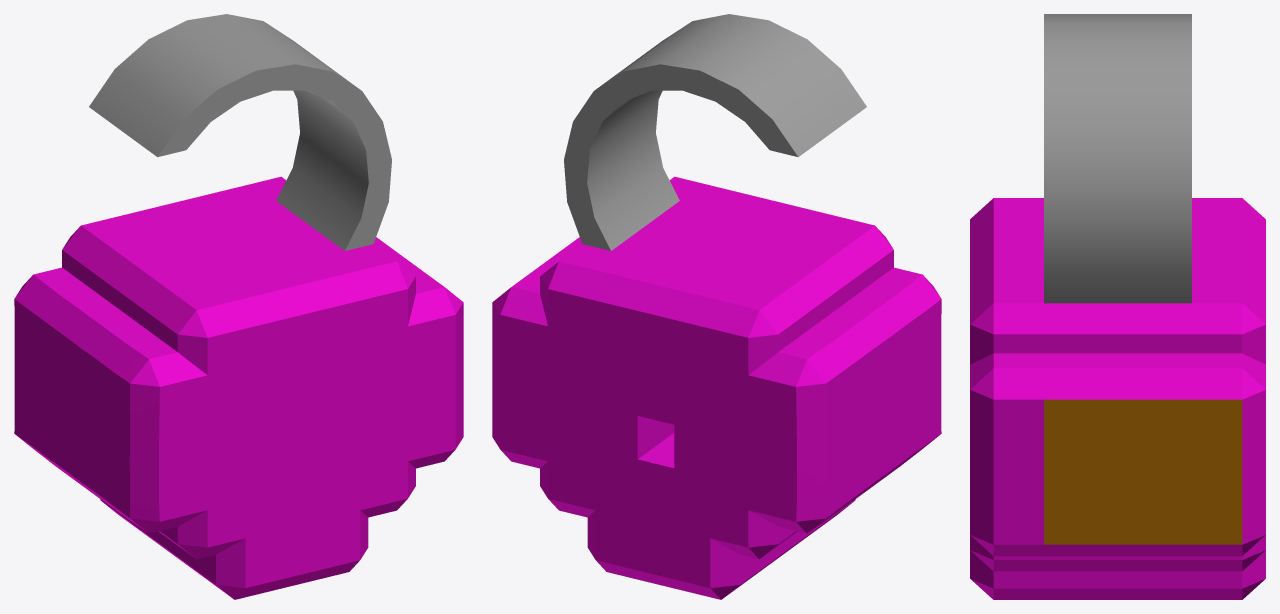
The model's file is Lock_Open_Pink.fbx.
The picture shows the model from 3 angles, left to right: view 1: azimuth 30°, elevation 25°; view 2: azimuth 150°, elevation 25°; view 3: azimuth 270°, elevation 25°; orthographic projection. The views are drawn at different scales.
Visible parts, largest first — view 1: Lock_Open_Pink; view 2: Lock_Open_Pink; view 3: Lock_Open_Pink.
Part boxes in pixels (x1=…): Lock_Open_Pink: x1=14, y1=14, x2=463, y2=599; Lock_Open_Pink: x1=492, y1=14, x2=941, y2=599; Lock_Open_Pink: x1=970, y1=14, x2=1265, y2=599.
Bounding box in the file's own units: 7 × 10.06 × 5.
